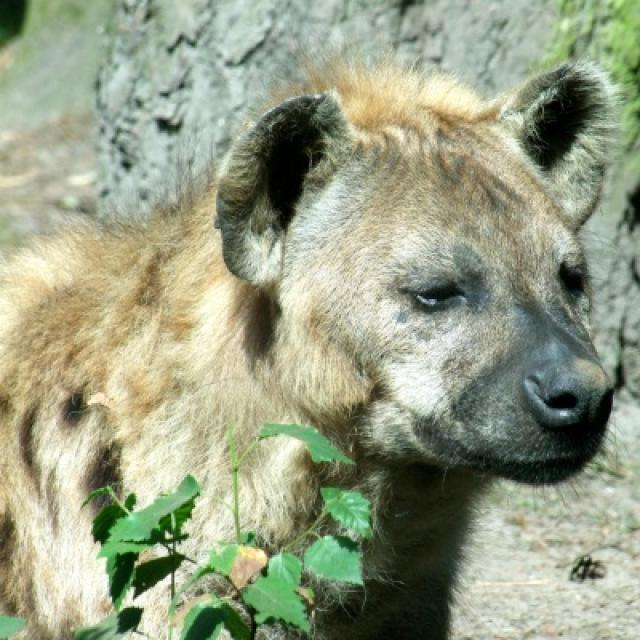hyena: (0, 58, 629, 638)
